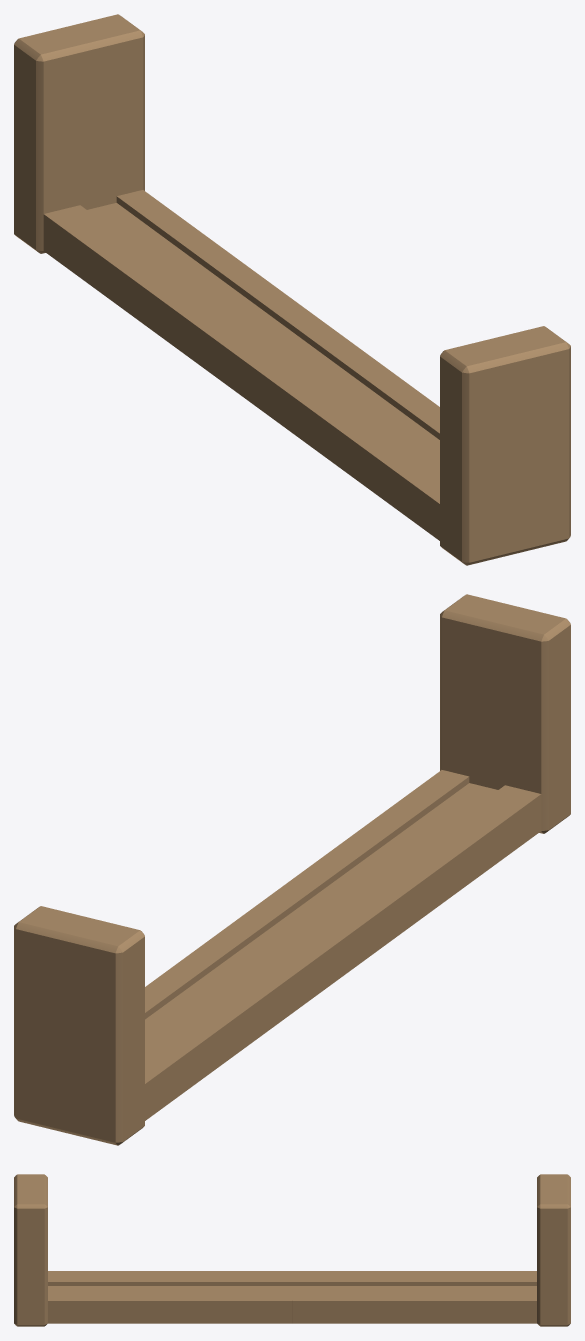
File: dene.fbx
3 views of the same model, one above another, from view 1: azimuth 30°, elevation 25°; view 2: azimuth 150°, elevation 25°; view 3: azimuth 270°, elevation 25° (orthographic). The views are drawn at different scales.
Visible parts, largest first — view 1: Rail; view 2: Rail; view 3: Rail.
Part boxes in pixels (x1=…): Rail: x1=14, y1=14, x2=570, y2=565; Rail: x1=14, y1=594, x2=570, y2=1145; Rail: x1=14, y1=1174, x2=570, y2=1326.
Size of the model in its own units: 0.5722 by 1 by 4.12.
